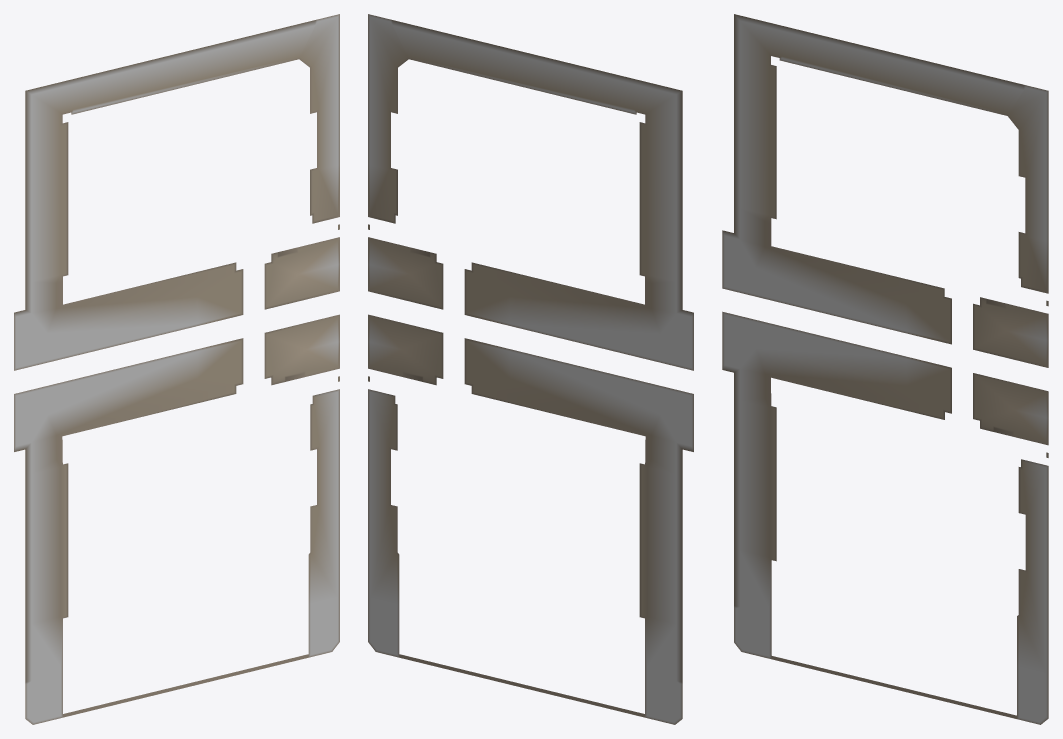
The model's file is SM_000323_tile03.fbx.
3 renders of one model, left to right at view 1: azimuth 30°, elevation 25°; view 2: azimuth 150°, elevation 25°; view 3: azimuth 330°, elevation 25°, orthographic.
Visible parts, largest first — view 1: SM_000323.001; view 2: SM_000323.001; view 3: SM_000323.001.
Part boxes in pixels (bbox=[...]): SM_000323.001: bbox=[14, 14, 339, 724]; SM_000323.001: bbox=[368, 14, 693, 724]; SM_000323.001: bbox=[722, 14, 1048, 724].
Bounding box in the file's own units: 36.9 × 68.8 × 2.98e-08.
